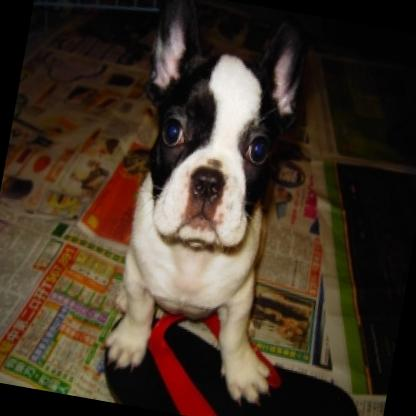French_bulldog: (90, 0, 334, 410)
